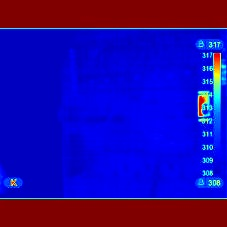Less: (193, 100, 218, 122)
